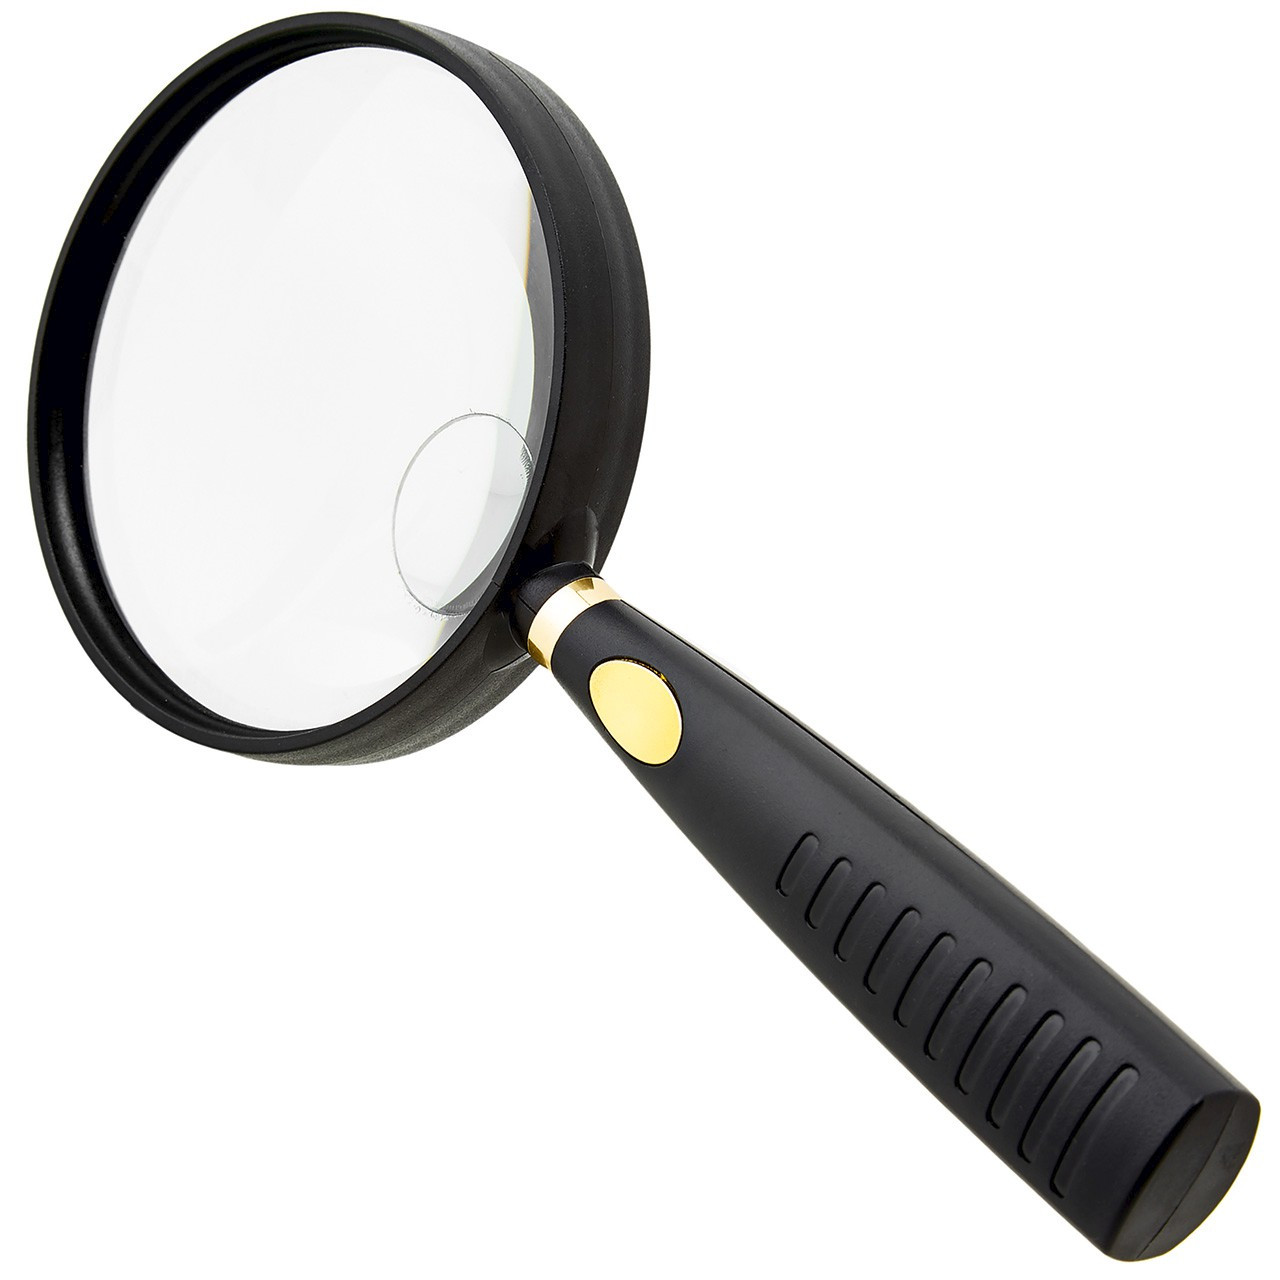magnifying-glass: (18, 5, 783, 840)
